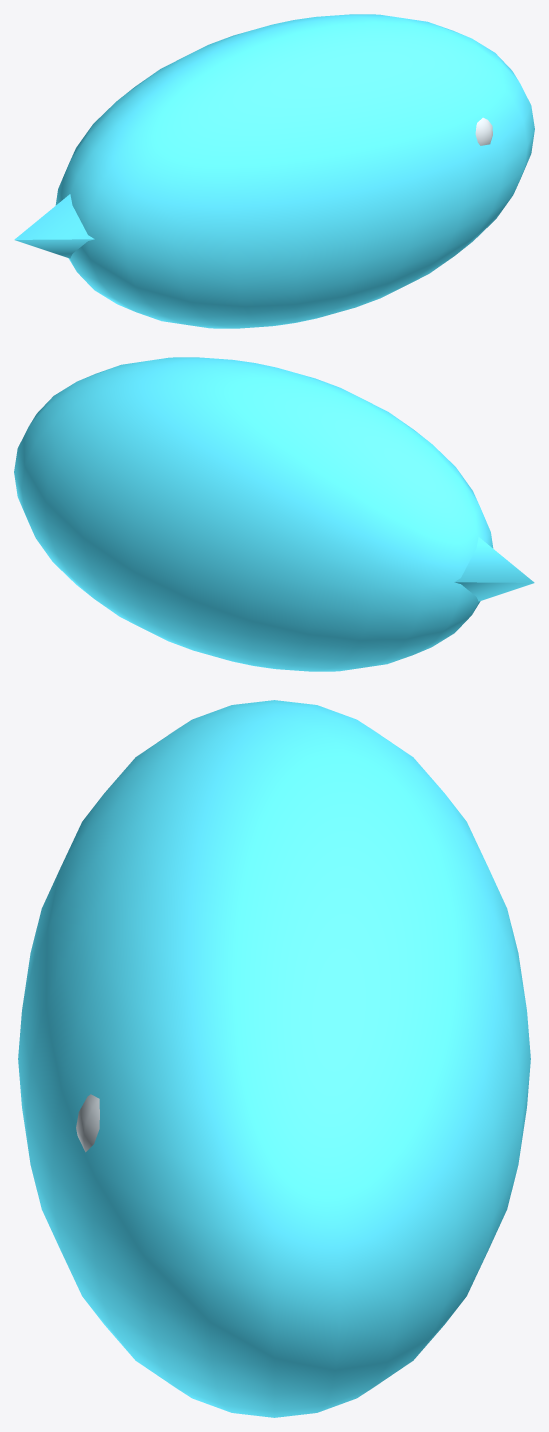
Rendered from prey-fish.glb.
3 renders of one model, top to bottom at view 1: azimuth 30°, elevation 25°; view 2: azimuth 150°, elevation 25°; view 3: azimuth 270°, elevation 25°, orthographic. The views are drawn at different scales.
Parts seen in each view (by area): view 1: body, tail, eye; view 2: body, tail; view 3: body, eye.
Part boxes in pixels (bbox=[...]): body: bbox=[55, 14, 534, 328]; tail: bbox=[14, 194, 94, 258]; eye: bbox=[475, 117, 492, 145]; body: bbox=[14, 357, 493, 671]; tail: bbox=[454, 537, 534, 601]; body: bbox=[18, 700, 530, 1417]; eye: bbox=[76, 1094, 99, 1152].
Size of the model in its own units: 1.4 by 0.7258 by 0.6048.
